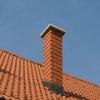chimneys: (40, 24, 66, 94)
